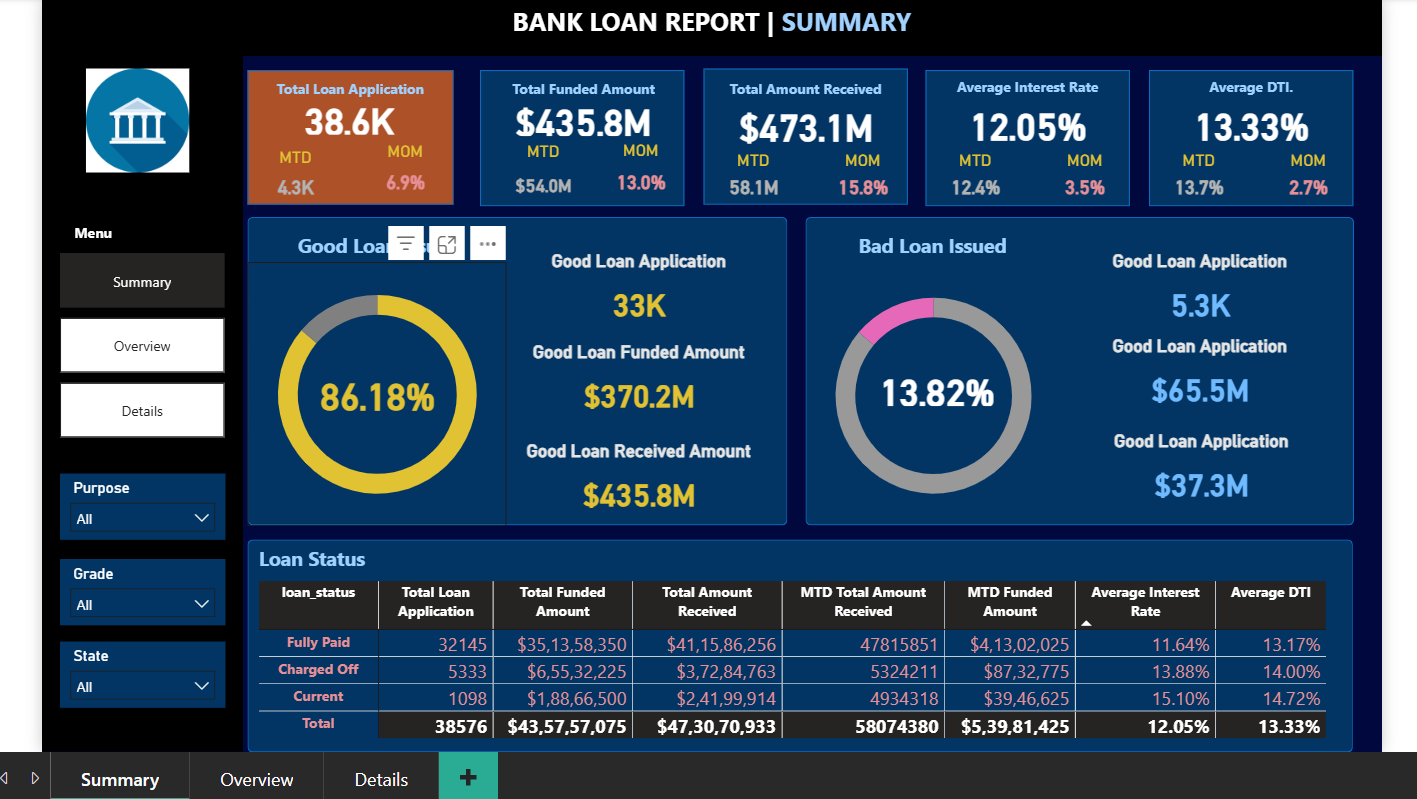

What the dashboard file says about the page in this screenshot:
{"tool":"powerbi","page":{"name":"Summary","canvas":[1280,720],"ordinal":0},"visuals":[{"type":"shape","box":[632.6,66.7,195.2,130.1],"z":0,"group":"g3"},{"type":"shape","box":[196.6,68.3,196.8,128.6],"z":0,"group":"g1"},{"type":"shape","box":[418,68.3,195.2,130.1],"z":0,"group":"g2"},{"type":"shape","box":[844.3,68.3,195.2,130.1],"z":0,"group":"g4"},{"type":"shape","box":[1057.4,68.3,195.2,130.1],"z":0,"group":"g5"},{"type":"shape","box":[728.7,209.8,523.7,294.4],"z":0},{"type":"shape","box":[196.8,209.8,515.6,294.4],"z":1000},{"type":"shape","box":[196.8,517.2,1055.6,203.3],"z":2000},{"type":"shape","box":[0,0,1280.1,55.3],"z":3000},{"type":"shape","box":[0,54.7,191.9,665.3],"z":4000},{"type":"card","fields":{"Values":["Bank_loan_data.Total Loan Application"]},"box":[193.6,94.3,199.8,40.9],"z":4000,"group":"g1"},{"type":"card","fields":{"Values":["Bank_loan_data.Average Interest Rate"]},"box":[844.2,94.6,195.2,50.4],"z":4000,"group":"g4"},{"type":"card","fields":{"Values":["Bank_loan_data.Average DTI"]},"box":[1057.3,94.6,195.2,50.4],"z":4000,"group":"g5"},{"type":"card","fields":{"Values":["Bank_loan_data.Total Amount Received"]},"box":[631.9,94.7,195.2,50.4],"z":4000,"group":"g3"},{"type":"card","fields":{"Values":["Bank_loan_data.Total Funded Amount"]},"box":[418,94.8,196.8,42.3],"z":4000,"group":"g2"},{"type":"textbox","box":[844.2,70.2,195.2,34.2],"z":5000,"group":"g4"},{"type":"textbox","box":[1057.3,70.2,195.2,34.2],"z":5000,"group":"g5"},{"type":"textbox","box":[631.9,70.3,195.2,34.2],"z":5000,"group":"g3"},{"type":"textbox","box":[197,70.5,196.5,33.1],"z":5000,"group":"g1"},{"type":"textbox","box":[420,70.8,195.2,34.2],"z":5000,"group":"g2"},{"type":"card","fields":{"Values":["Bank_loan_data.Bad Loan %"]},"box":[784,353,141.5,42.3],"z":5000},{"type":"textbox","box":[357,0,566,48.8],"z":6000},{"type":"card","title":"MTD","fields":{"Values":["Bank_loan_data.MTD Funded Amount"]},"box":[435.9,137.7,86.2,66.7],"z":6000,"group":"g2"},{"type":"card","title":"MTD","fields":{"Values":["Bank_loan_data.MTD loan Application"]},"box":[213.8,142.2,56.9,56.6],"z":6000,"group":"g1"},{"type":"card","title":"MTD","fields":{"Values":["Bank_loan_data.MTD Average Interest"]},"box":[860.5,145,63.4,52],"z":6000,"group":"g4"},{"type":"card","title":"MTD","fields":{"Values":["Bank_loan_data.MTD Average DTI"]},"box":[1073.6,145,63.4,52],"z":6000,"group":"g5"},{"type":"card","title":"MTD","fields":{"Values":["Bank_loan_data.MTD Total Amount Received"]},"box":[648.2,145.2,63.4,52],"z":6000,"group":"g3"},{"type":"card","title":"MOM","fields":{"Values":["Bank_loan_data.MOM Funded Amount"]},"box":[539.6,135.5,63.4,61.8],"z":7000,"group":"g2"},{"type":"card","title":"MOM","fields":{"Values":["Bank_loan_data.MOM loan application"]},"box":[315.1,137,63.4,58.2],"z":7000,"group":"g1"},{"type":"card","title":"MOM","fields":{"Values":["Bank_loan_data.MOM Average Interest"]},"box":[964.6,145,63.4,52],"z":7000,"group":"g4"},{"type":"card","title":"MOM","fields":{"Values":["Bank_loan_data.MOM Average DTI"]},"box":[1177.7,145,63.4,52],"z":7000,"group":"g5"},{"type":"card","title":"MOM","fields":{"Values":["Bank_loan_data.MOM Amount Received"]},"box":[752.3,145.2,63.4,52],"z":7000,"group":"g3"},{"type":"card","fields":{"Values":["Bank_loan_data.Good Loan %"]},"box":[255.4,353,130.1,50.4],"z":7000},{"type":"textbox","box":[222.8,218,196.8,45.5],"z":8000},{"type":"group","id":"g1","title":"Group 1","box":[193.6,68.3,200.1,130.1],"z":9000},{"type":"group","id":"g2","title":"Group 1","box":[418,68.3,197.2,136.1],"z":10000},{"type":"group","id":"g3","title":"Group 1","box":[631.9,66.7,195.2,130.1],"z":11000},{"type":"group","id":"g4","title":"Group 1","box":[844.2,68.3,195.2,130.1],"z":12000},{"type":"group","id":"g5","title":"Group 1","box":[1057.3,68.3,195.2,130.1],"z":13000},{"type":"slicer","fields":{"Values":["Bank_loan_data.purpose"]},"box":[17.9,453.8,157.8,63.4],"z":14000},{"type":"slicer","fields":{"Values":["Bank_loan_data.grade"]},"box":[17.9,535.1,157.8,63.4],"z":15000},{"type":"slicer","fields":{"Values":["Bank_loan_data.address_state"]},"box":[17.9,614.8,157.8,63.4],"z":16000},{"type":"textbox","box":[26,209.8,65.1,34.2],"z":17000},{"type":"pivotTable","fields":{"Rows":["Bank_loan_data.loan_status"],"Values":["Bank_loan_data.Total Loan Application","Bank_loan_data.Total Funded Amount","Bank_loan_data.Total Amount Received","Bank_loan_data.MTD Total Amount Received","Bank_loan_data.MTD Funded Amount","Bank_loan_data.Average Interest Rate","Bank_loan_data.Average DTI"]},"box":[201.7,551.4,1039.4,169.2],"z":18000},{"type":"donutChart","fields":{"Category":["Bank_loan_data.Good v Bad Loan"],"Y":["Bank_loan_data.Total Loan Application"]},"box":[196.8,252.1,247.2,252.1],"z":19000},{"type":"card","title":"Good Loan Application","fields":{"Values":["Bank_loan_data.Good Loan Application"]},"box":[432.7,240.7,274.9,81.3],"z":20000},{"type":"card","title":"Good Loan Funded Amount","fields":{"Values":["Bank_loan_data.Good Loan Funded Amount"]},"box":[432.7,328.6,274.9,81.3],"z":21000},{"type":"card","title":"Good Loan Received Amount","fields":{"Values":["Bank_loan_data.Good Loan Recieved Amount"]},"box":[432.7,422.9,274.9,81.3],"z":22000},{"type":"donutChart","fields":{"Category":["Bank_loan_data.Good v Bad Loan"],"Y":["Bank_loan_data.Total Loan Application"]},"box":[728.7,255.4,244,248.9],"z":23000},{"type":"textbox","box":[751.5,218,196.8,45.5],"z":24000},{"type":"card","title":"Good Loan Application","fields":{"Values":["Bank_loan_data.Bad Loan Application"]},"box":[967.8,240.7,274.9,81.3],"z":25000},{"type":"card","title":"Good Loan Application","fields":{"Values":["Bank_loan_data.Bad Loan Funded Amount"]},"box":[967.8,322.1,274.9,81.3],"z":26000},{"type":"card","title":"Good Loan Application","fields":{"Values":["Bank_loan_data.Bad Loan Received Amount"]},"box":[969.4,413.1,274.9,81.3],"z":27000},{"type":"textbox","box":[201.7,517.2,120.4,50.4],"z":28000},{"type":"image","box":[29.3,66.7,125.2,99.2],"z":29000},{"type":"pageNavigator","box":[17.9,244,157.8,178.9],"z":30000}]}

Visuals, with their boxes on the page's 1280x720 design canvas (x1, y1, x2, y2). These are canvas units, not pixel positions in the 1417x799 screenshot, which may show the page scaled, cropped or inside an application window:
shape: Rect(633, 67, 828, 197)
shape: Rect(197, 68, 393, 197)
shape: Rect(418, 68, 613, 198)
shape: Rect(844, 68, 1040, 198)
shape: Rect(1057, 68, 1253, 198)
shape: Rect(729, 210, 1252, 504)
shape: Rect(197, 210, 712, 504)
shape: Rect(197, 517, 1252, 720)
shape: Rect(0, 0, 1280, 55)
shape: Rect(0, 55, 192, 720)
card - Bank_loan_data.Total Loan Application: Rect(194, 94, 393, 135)
card - Bank_loan_data.Average Interest Rate: Rect(844, 95, 1039, 145)
card - Bank_loan_data.Average DTI: Rect(1057, 95, 1252, 145)
card - Bank_loan_data.Total Amount Received: Rect(632, 95, 827, 145)
card - Bank_loan_data.Total Funded Amount: Rect(418, 95, 615, 137)
textbox: Rect(844, 70, 1039, 104)
textbox: Rect(1057, 70, 1252, 104)
textbox: Rect(632, 70, 827, 104)
textbox: Rect(197, 70, 394, 104)
textbox: Rect(420, 71, 615, 105)
card - Bank_loan_data.Bad Loan %: Rect(784, 353, 926, 395)
textbox: Rect(357, 0, 923, 49)
"MTD" card: Rect(436, 138, 522, 204)
"MTD" card: Rect(214, 142, 271, 199)
"MTD" card: Rect(860, 145, 924, 197)
"MTD" card: Rect(1074, 145, 1137, 197)
"MTD" card: Rect(648, 145, 712, 197)
"MOM" card: Rect(540, 136, 603, 197)
"MOM" card: Rect(315, 137, 378, 195)
"MOM" card: Rect(965, 145, 1028, 197)
"MOM" card: Rect(1178, 145, 1241, 197)
"MOM" card: Rect(752, 145, 816, 197)
card - Bank_loan_data.Good Loan %: Rect(255, 353, 386, 403)
textbox: Rect(223, 218, 420, 264)
"Group 1" group: Rect(194, 68, 394, 198)
"Group 1" group: Rect(418, 68, 615, 204)
"Group 1" group: Rect(632, 67, 827, 197)
"Group 1" group: Rect(844, 68, 1039, 198)
"Group 1" group: Rect(1057, 68, 1252, 198)
slicer - Bank_loan_data.purpose: Rect(18, 454, 176, 517)
slicer - Bank_loan_data.grade: Rect(18, 535, 176, 598)
slicer - Bank_loan_data.address_state: Rect(18, 615, 176, 678)
textbox: Rect(26, 210, 91, 244)
pivotTable - Bank_loan_data.loan_status x Bank_loan_data.Total Loan Application: Rect(202, 551, 1241, 721)
donutChart - Bank_loan_data.Good v Bad Loan x Bank_loan_data.Total Loan Application: Rect(197, 252, 444, 504)
"Good Loan Application" card: Rect(433, 241, 708, 322)
"Good Loan Funded Amount" card: Rect(433, 329, 708, 410)
"Good Loan Received Amount" card: Rect(433, 423, 708, 504)
donutChart - Bank_loan_data.Good v Bad Loan x Bank_loan_data.Total Loan Application: Rect(729, 255, 973, 504)
textbox: Rect(752, 218, 948, 264)
"Good Loan Application" card: Rect(968, 241, 1243, 322)
"Good Loan Application" card: Rect(968, 322, 1243, 403)
"Good Loan Application" card: Rect(969, 413, 1244, 494)
textbox: Rect(202, 517, 322, 568)
image: Rect(29, 67, 154, 166)
pageNavigator: Rect(18, 244, 176, 423)
